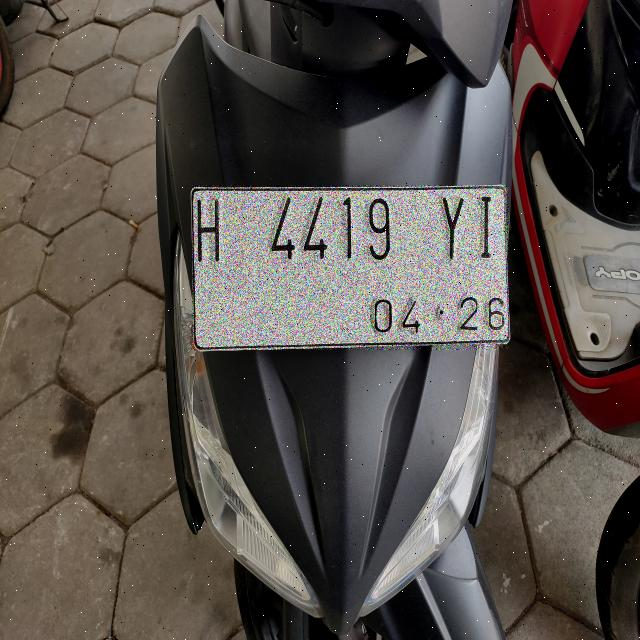plate: (192, 186, 508, 349)
